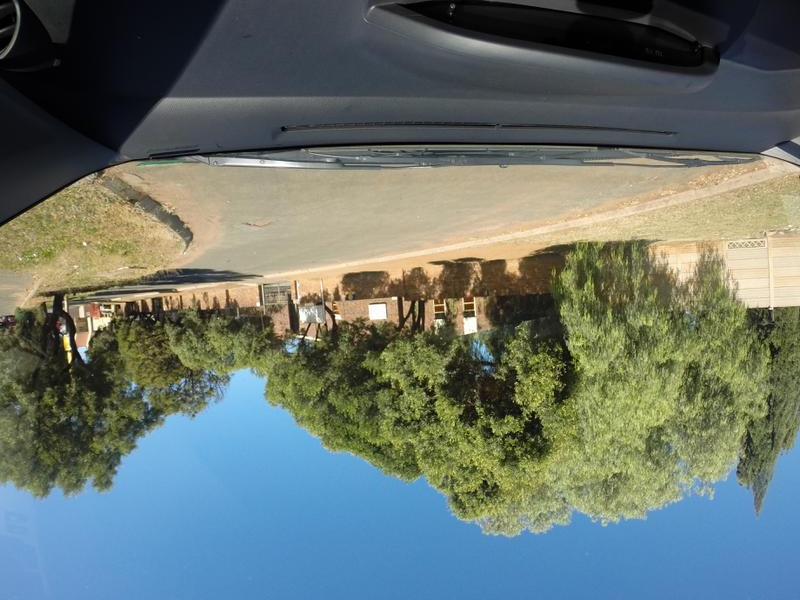pothole: (236, 216, 273, 227)
